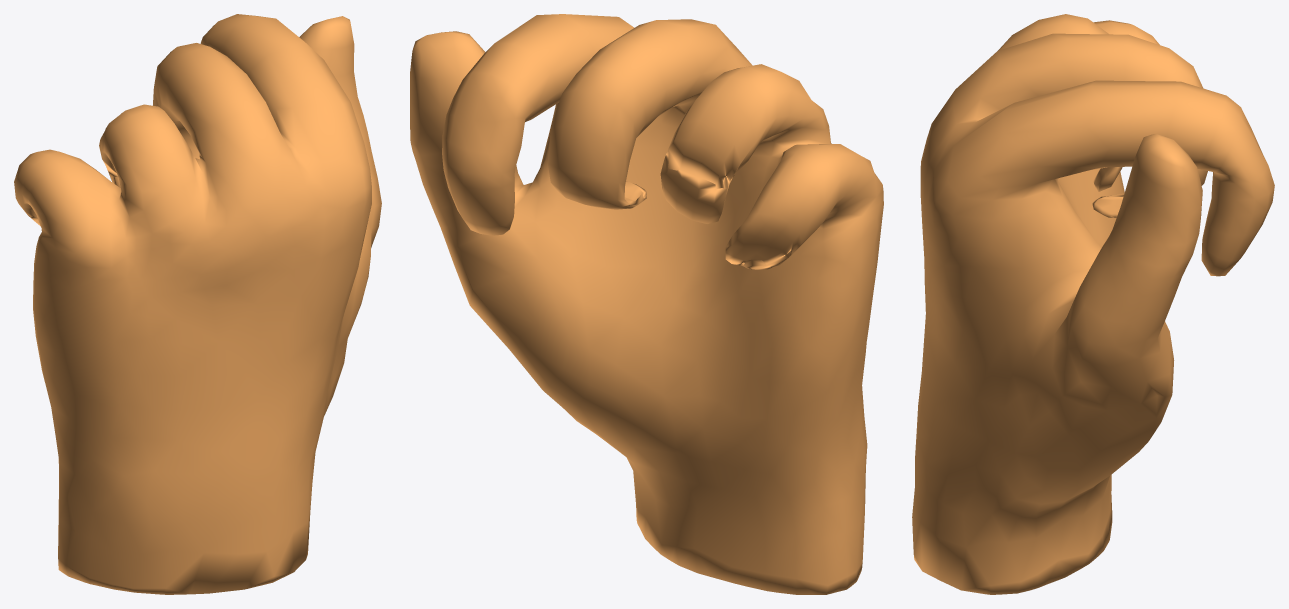
Rendered from linksGegriffen.obj.
The picture shows the model from 3 angles, left to right: view 1: azimuth 30°, elevation 25°; view 2: azimuth 150°, elevation 25°; view 3: azimuth 270°, elevation 25°; orthographic projection. The views are drawn at different scales.
Visible parts, largest first — view 1: linksGegriffen; view 2: linksGegriffen; view 3: linksGegriffen.
Part boxes in pixels (left/top/right/bottom): linksGegriffen: left=14, top=14, right=381, bottom=594; linksGegriffen: left=410, top=14, right=883, bottom=594; linksGegriffen: left=912, top=14, right=1274, bottom=594.
Bounding box in the file's own units: 0.2024 × 0.2483 × 0.1533.
